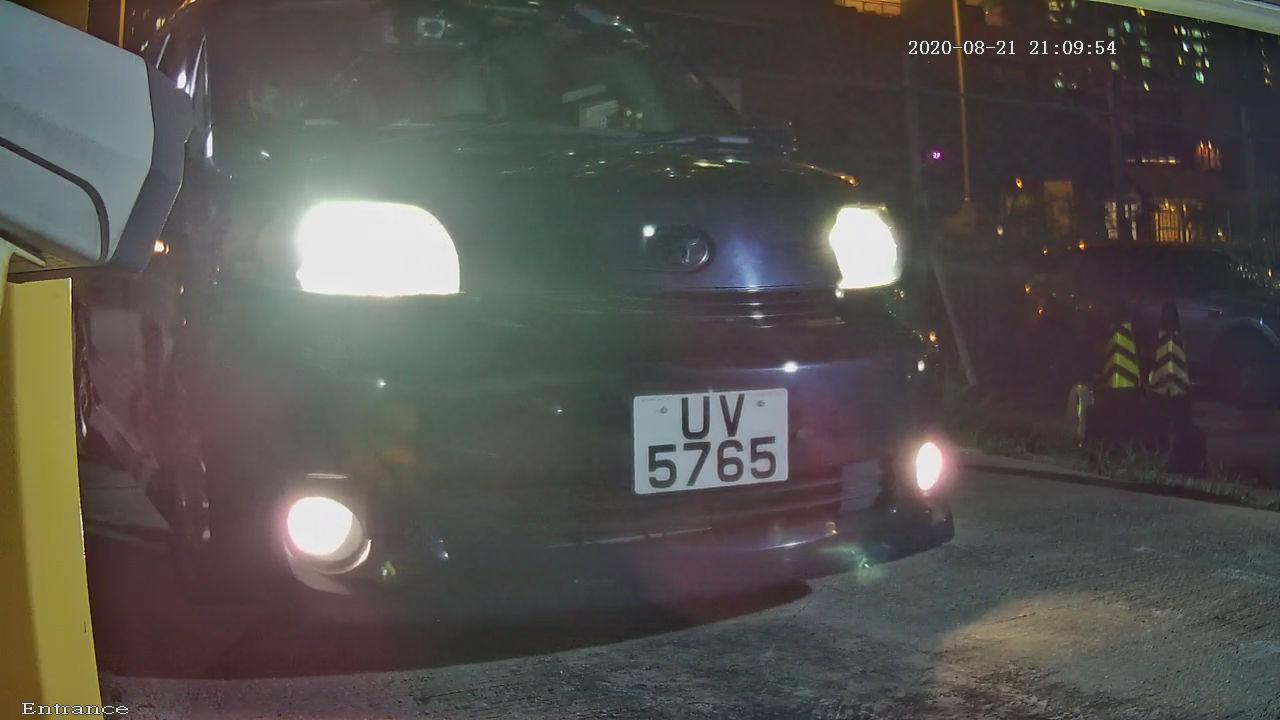Car: (63, 7, 1058, 688)
License Plate: (606, 370, 806, 512)
